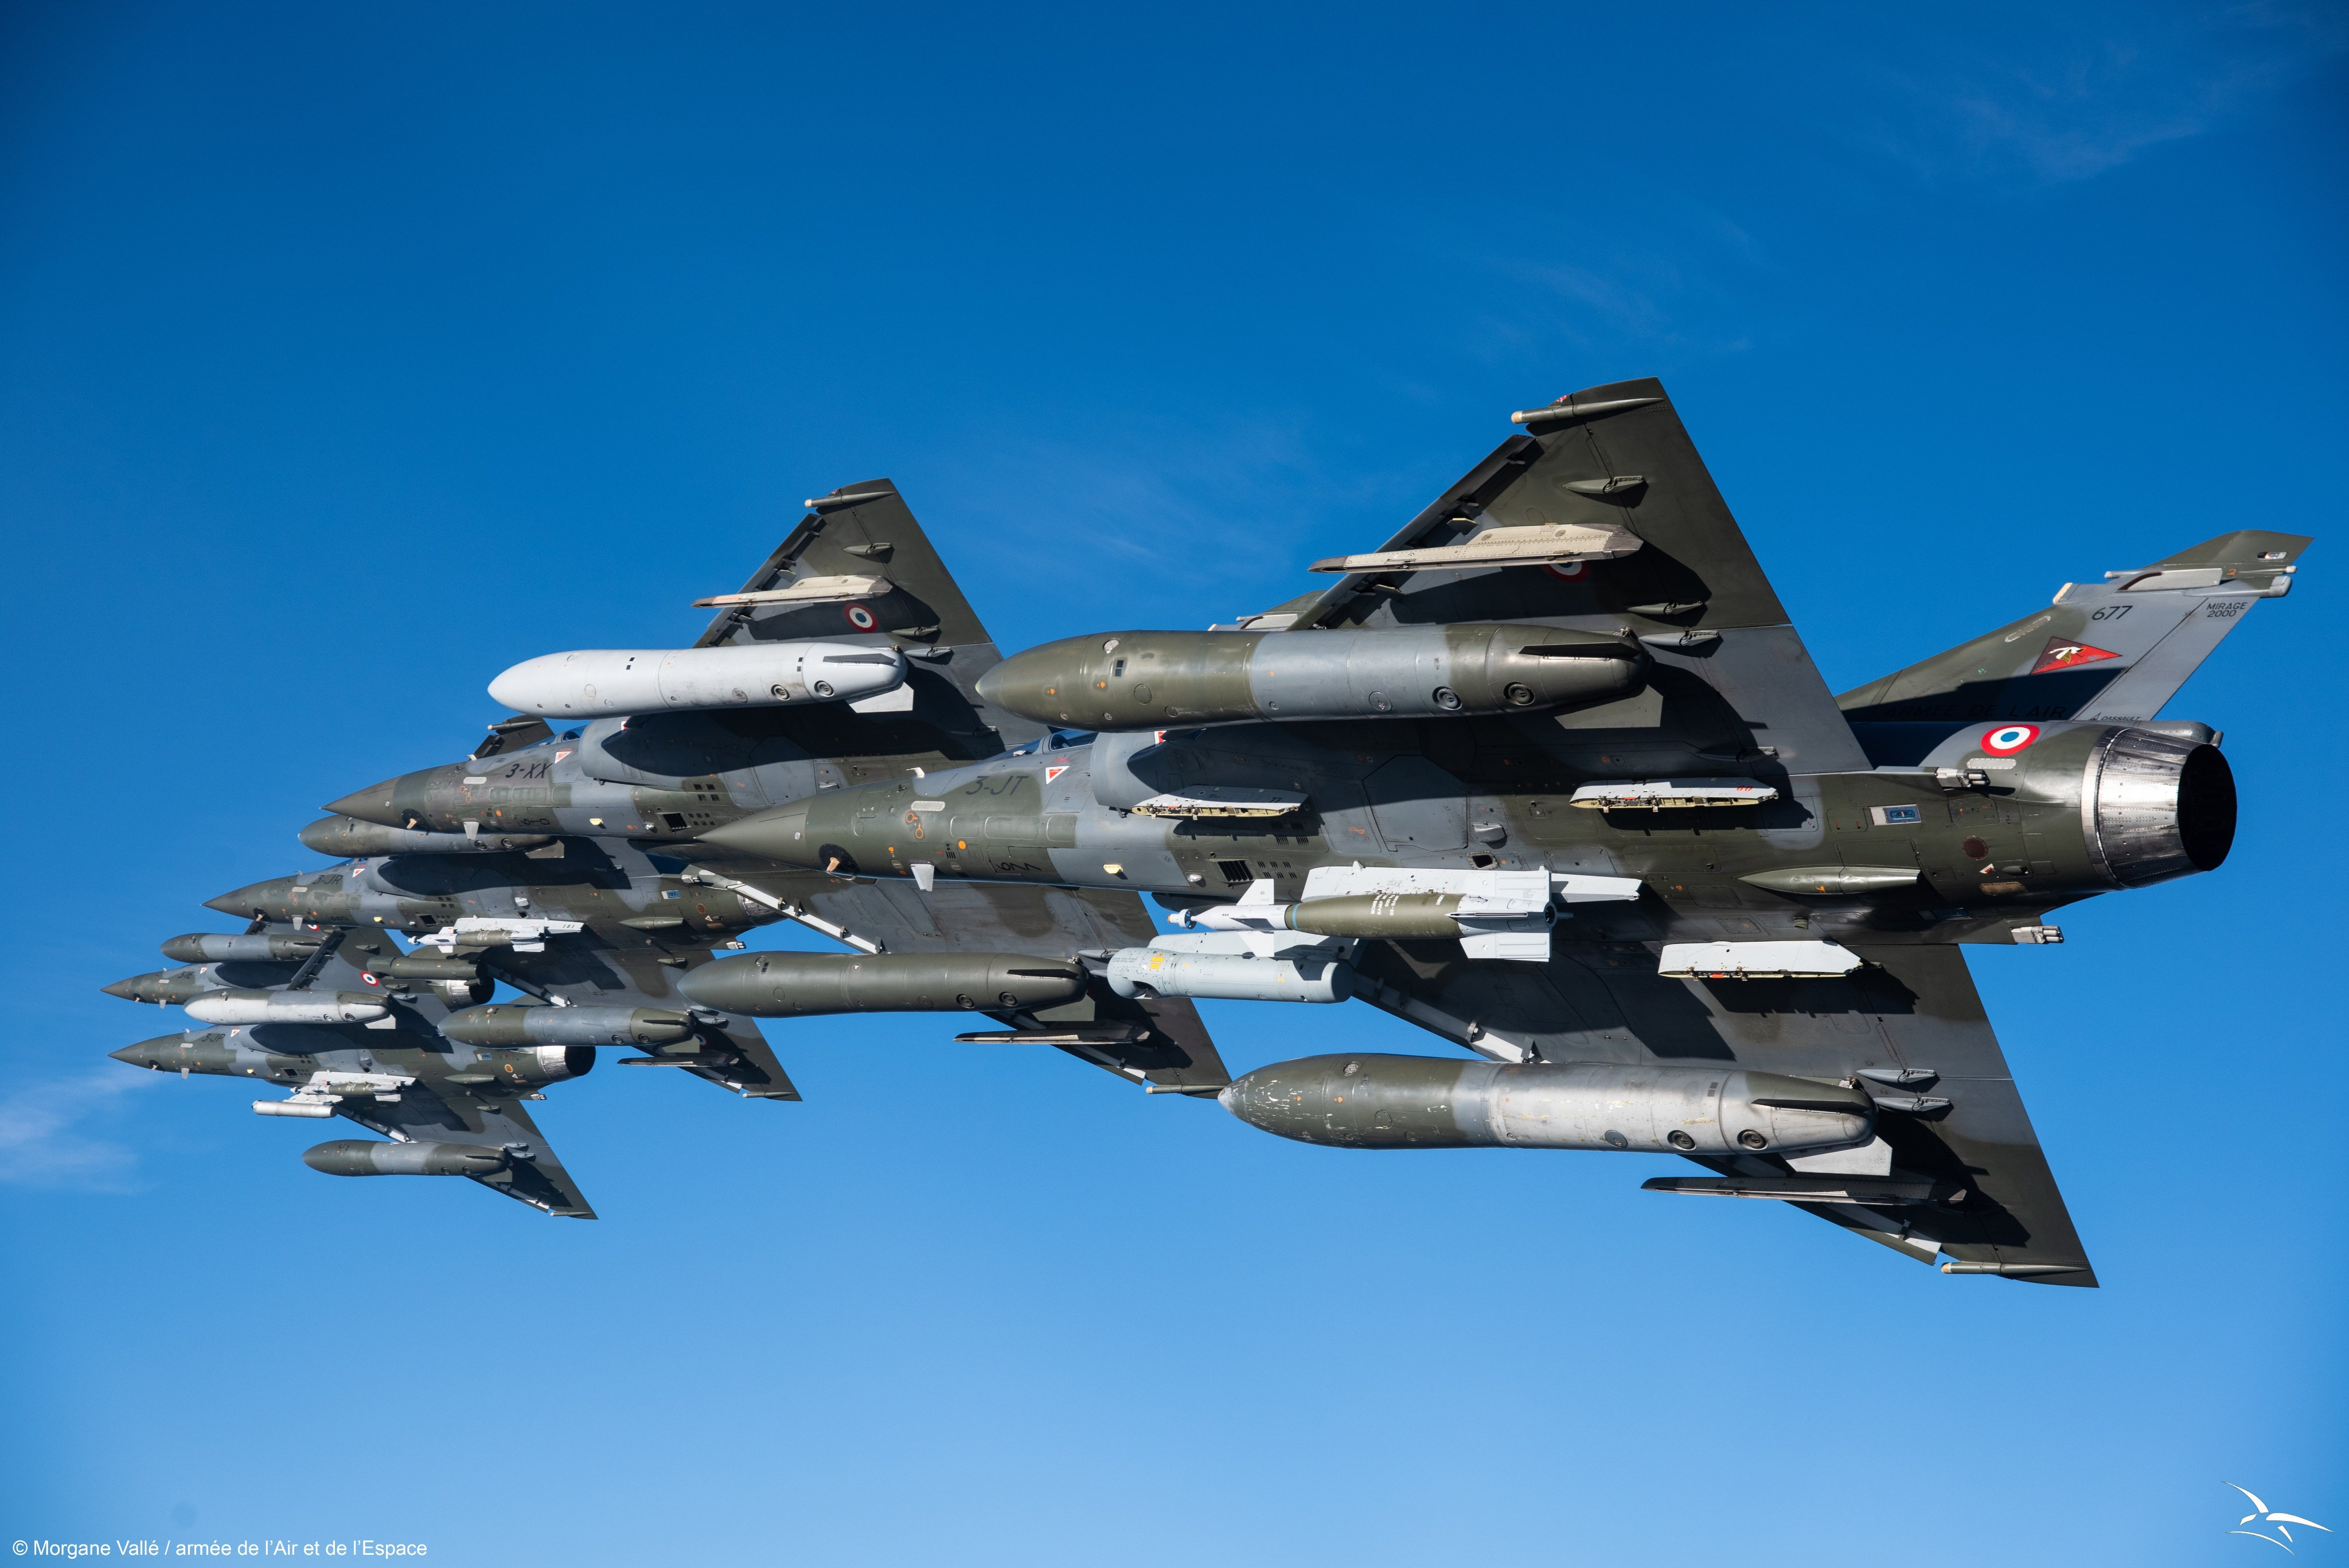Mirage2000: (691, 376, 2316, 1288), (317, 478, 1328, 1101), (198, 714, 803, 1102), (105, 926, 600, 1220), (98, 920, 495, 1013)
